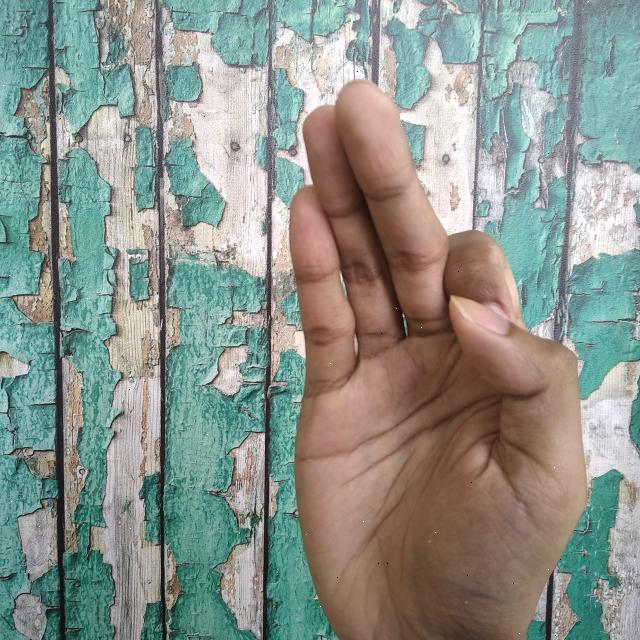F: (286, 75, 590, 640)
